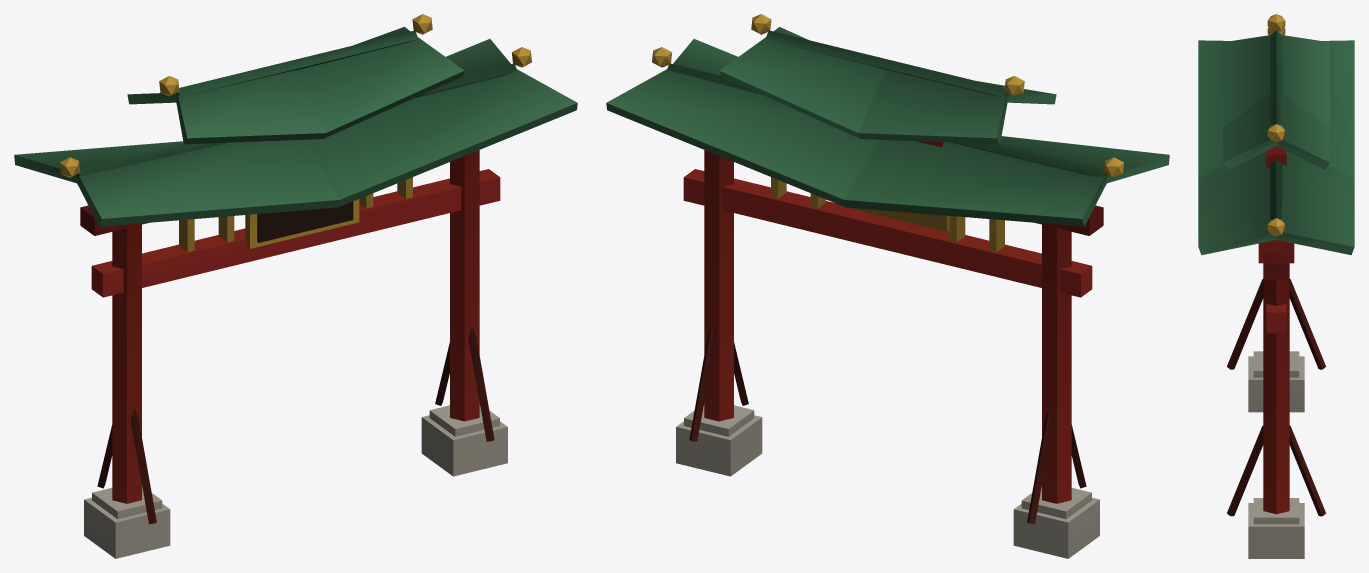
The model's file is tp_gate_lo-kwMQxvAN.glb.
3 renders of one model, left to right at view 1: azimuth 30°, elevation 25°; view 2: azimuth 150°, elevation 25°; view 3: azimuth 270°, elevation 25°, orthographic. The views are drawn at different scales.
Size of the model in its own units: 9.61 by 8.75 by 3.06.
